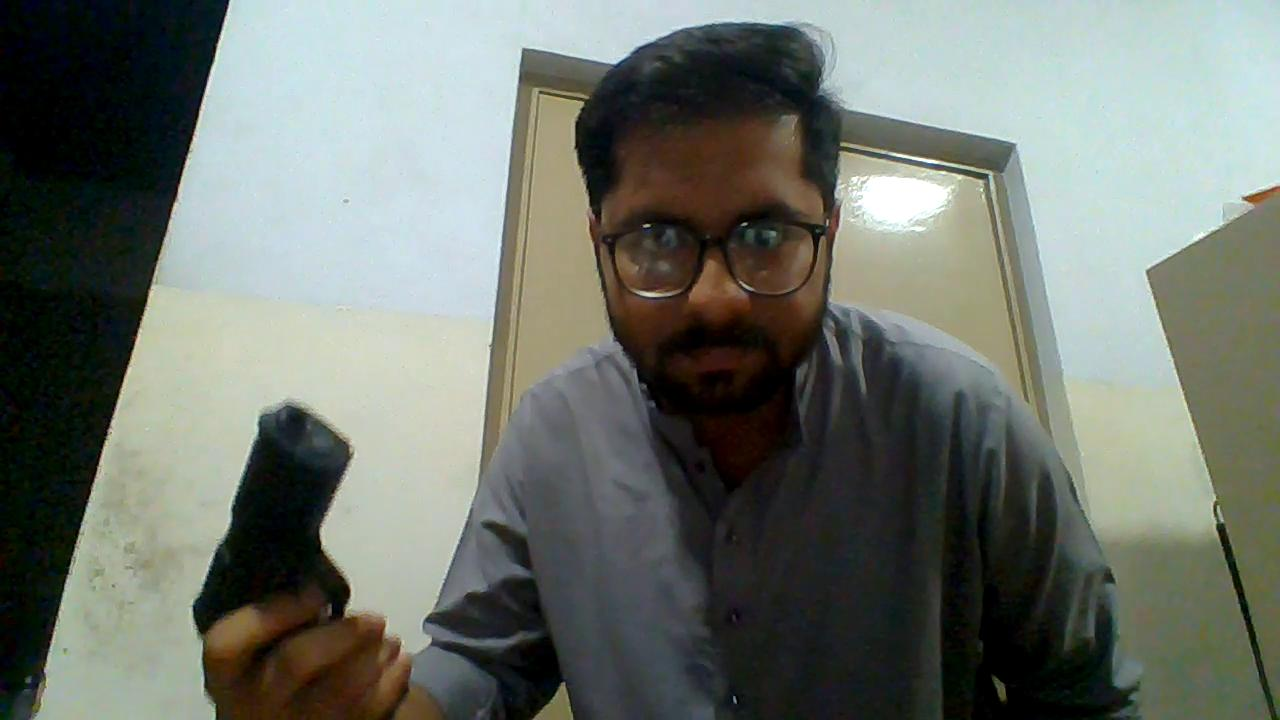criminal: (192, 19, 1144, 720)
weapon: (190, 399, 359, 650)
